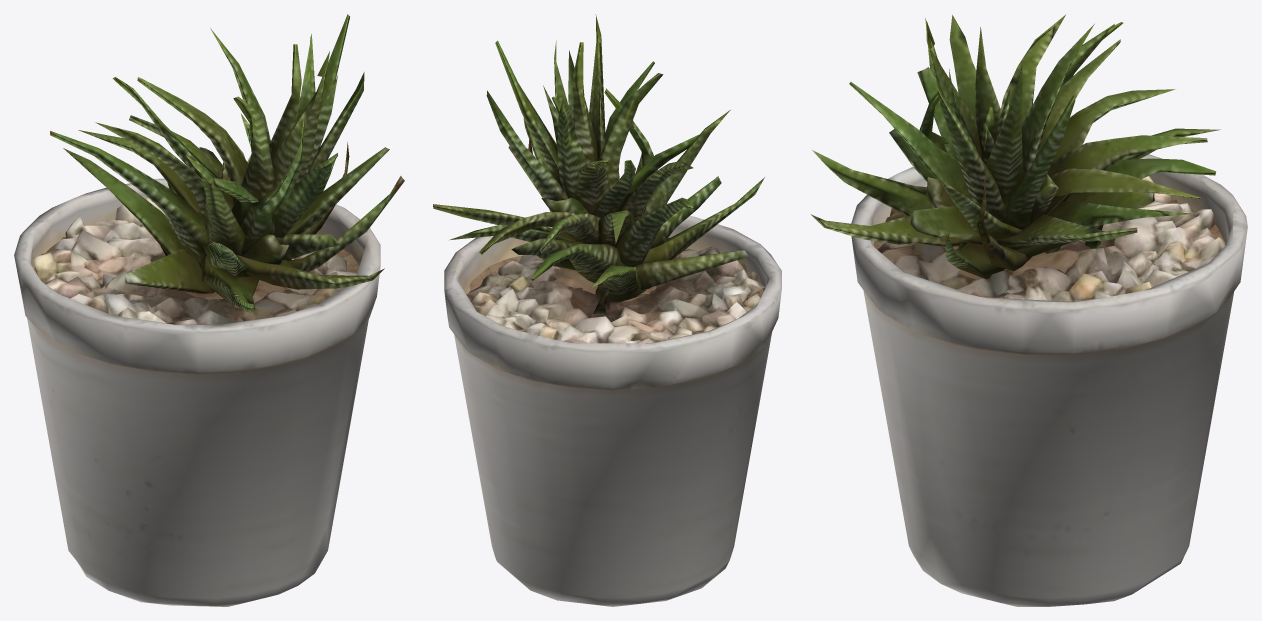
Rendered from potted_plant_04.glb.
3 views of the same model, side by side, from view 1: azimuth 30°, elevation 25°; view 2: azimuth 150°, elevation 25°; view 3: azimuth 270°, elevation 25° (orthographic). The views are drawn at different scales.
Visible parts, largest first — view 1: potted_plant_04_ground; view 2: potted_plant_04_ground; view 3: potted_plant_04_ground.
Boxes of the visible parts, <box> form: potted_plant_04_ground: <box>14,14,404,606</box>; potted_plant_04_ground: <box>433,14,781,606</box>; potted_plant_04_ground: <box>811,14,1247,606</box>.
Bounding box in the file's own units: 0.1675 × 0.2672 × 0.1838.
1 material, 1 textured.
